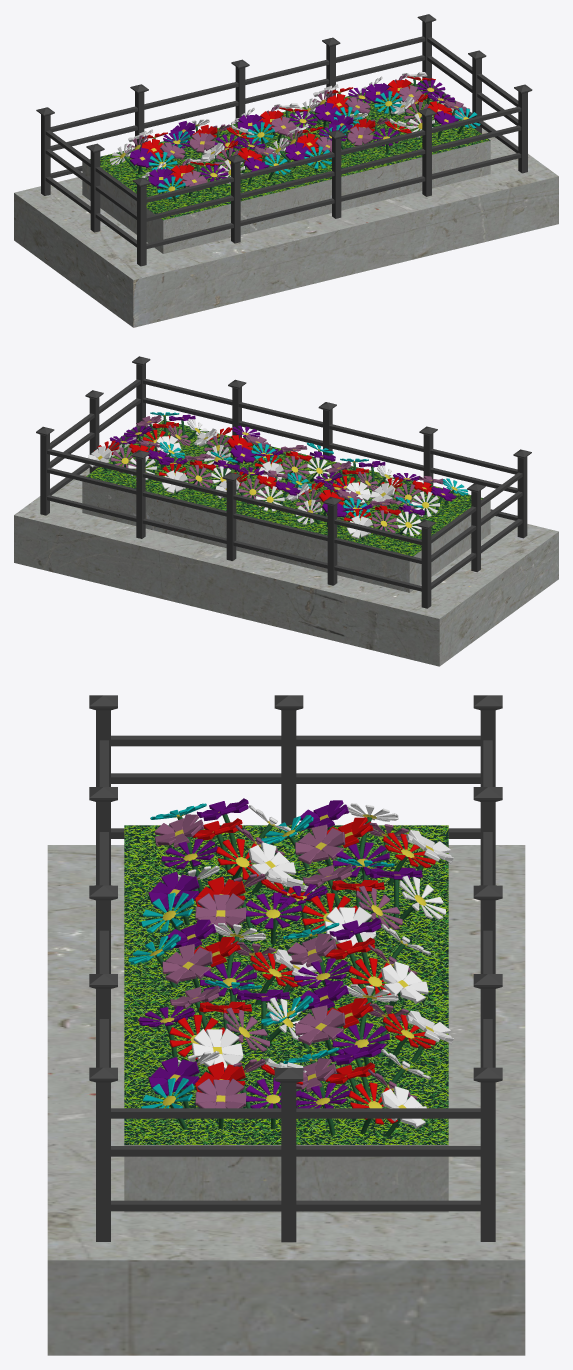
File: flowerbed2.fbx
The picture shows the model from 3 angles, top to bottom: view 1: azimuth 30°, elevation 25°; view 2: azimuth 150°, elevation 25°; view 3: azimuth 270°, elevation 25°; orthographic projection. The views are drawn at different scales.
Visible parts, largest first — view 1: pCube4429; view 2: pCube4429; view 3: pCube4429.
Part boxes in pixels (bbox=[...]): pCube4429: bbox=[14, 14, 558, 327]; pCube4429: bbox=[14, 356, 558, 666]; pCube4429: bbox=[47, 695, 525, 1355].
Bounding box in the file's own units: 4.55 × 1.36 × 2.21.
Materials: 10 (2 with a texture image).
